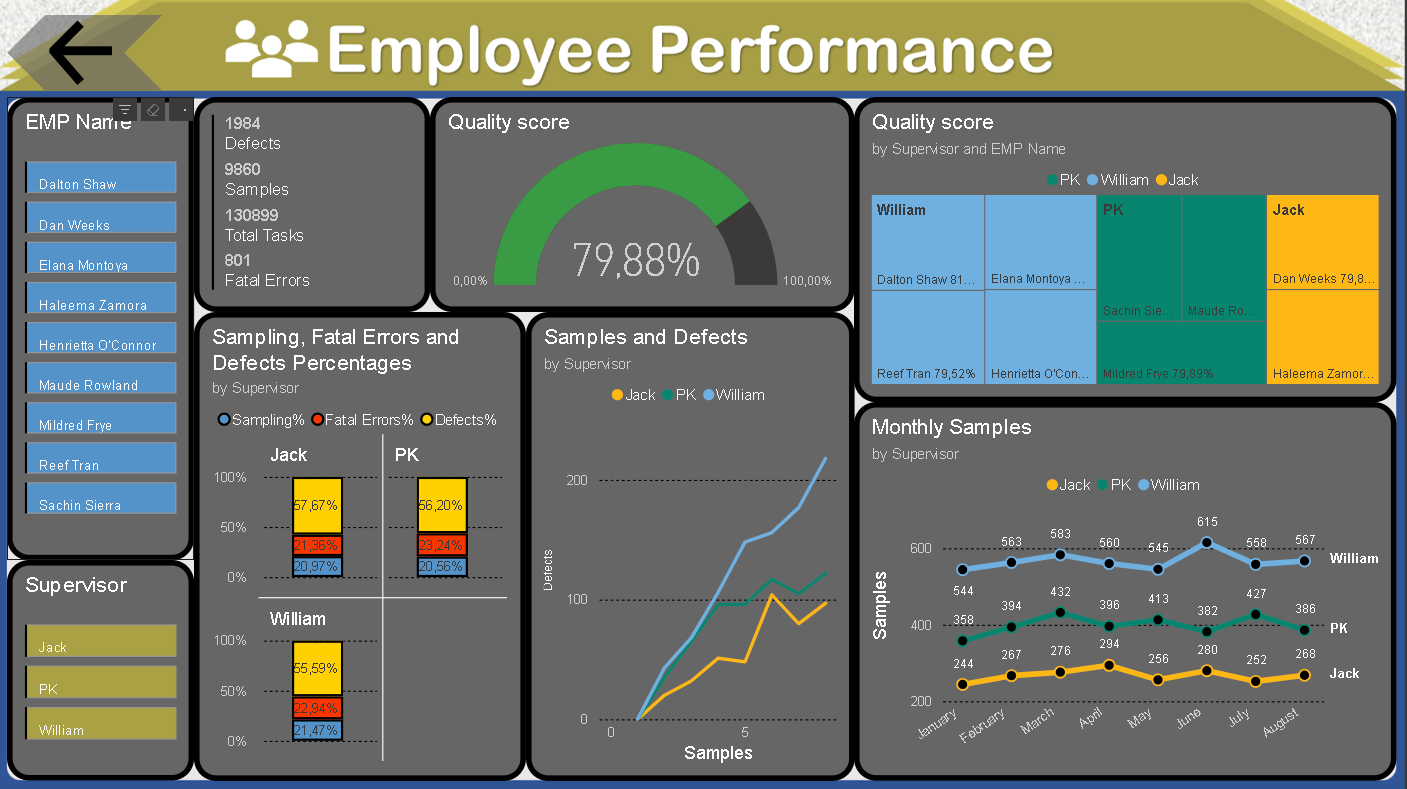

What the dashboard file says about the page in this screenshot:
{"tool":"powerbi","page":{"name":"Employee Performance","canvas":[1280,720],"ordinal":1},"visuals":[{"type":"image","box":[0,0,1280,720],"z":0},{"type":"treemap","fields":{"Values":["Quality data.Quality score"],"Group":["Emp Master.Supervisor"],"Details":["Emp Master.EMP Name"]},"box":[777,93,487,274],"z":1000},{"type":"hundredPercentStackedColumnChart","title":"Sampling, Fatal Errors and Defects Percentages","fields":{"Y":["Quality data.Sampling%","Quality data.Fatal Errors%","Quality data.Defects%"],"Rows":["Emp Master.Supervisor"]},"box":[184,286,298,421],"z":2000},{"type":"lineChart","title":"Monthly Samples","fields":{"Category":["Quality data.Date.Variation.Date Hierarchy.Month"],"Series":["Emp Master.Supervisor"],"Y":["Sum(Quality data.Samples)"]},"box":[777,367,487,340],"z":3000},{"type":"advancedSlicerVisual","fields":{"Values":["Emp Master.EMP Name"]},"box":[16,93,168,416],"z":4000},{"type":"gauge","fields":{"Y":["Quality data.Quality score"]},"box":[396,93,381,193],"z":5000},{"type":"advancedSlicerVisual","fields":{"Values":["Emp Master.Supervisor"]},"box":[16,509,168,198],"z":6000},{"type":"multiRowCard","fields":{"Values":["Sum(Quality data.Defects)","Sum(Quality data.Samples)","Sum(Quality data.Total Task)","Sum(Quality data.Fatal Errors)"]},"box":[184,93,212,193],"z":7000},{"type":"lineChart","title":"Samples and  Defects","fields":{"Category":["Quality data.Samples"],"Y":["Sum(Quality data.Defects)"],"Series":["Emp Master.Supervisor"]},"box":[482,286,295,421],"z":8000},{"type":"actionButton","box":[16,19.5,139.5,68],"z":9000}]}

Visuals, with their boxes in screenshot pixels (x1, y1, x2, y2), scaled from the page's 1280x720 canvas onto the 1407x789 screenshot:
image: Rect(0, 0, 1406, 788)
treemap - Quality data.Quality score x Emp Master.Supervisor: Rect(854, 102, 1389, 402)
"Sampling, Fatal Errors and Defects Percentages" hundredPercentStackedColumnChart: Rect(202, 313, 530, 775)
"Monthly Samples" lineChart: Rect(854, 402, 1389, 775)
advancedSlicerVisual - Emp Master.EMP Name: Rect(18, 102, 202, 558)
gauge - Quality data.Quality score: Rect(435, 102, 854, 313)
advancedSlicerVisual - Emp Master.Supervisor: Rect(18, 558, 202, 775)
multiRowCard - Sum(Quality data.Defects) x Sum(Quality data.Samples): Rect(202, 102, 435, 313)
"Samples and  Defects" lineChart: Rect(530, 313, 854, 775)
actionButton: Rect(18, 21, 171, 96)
